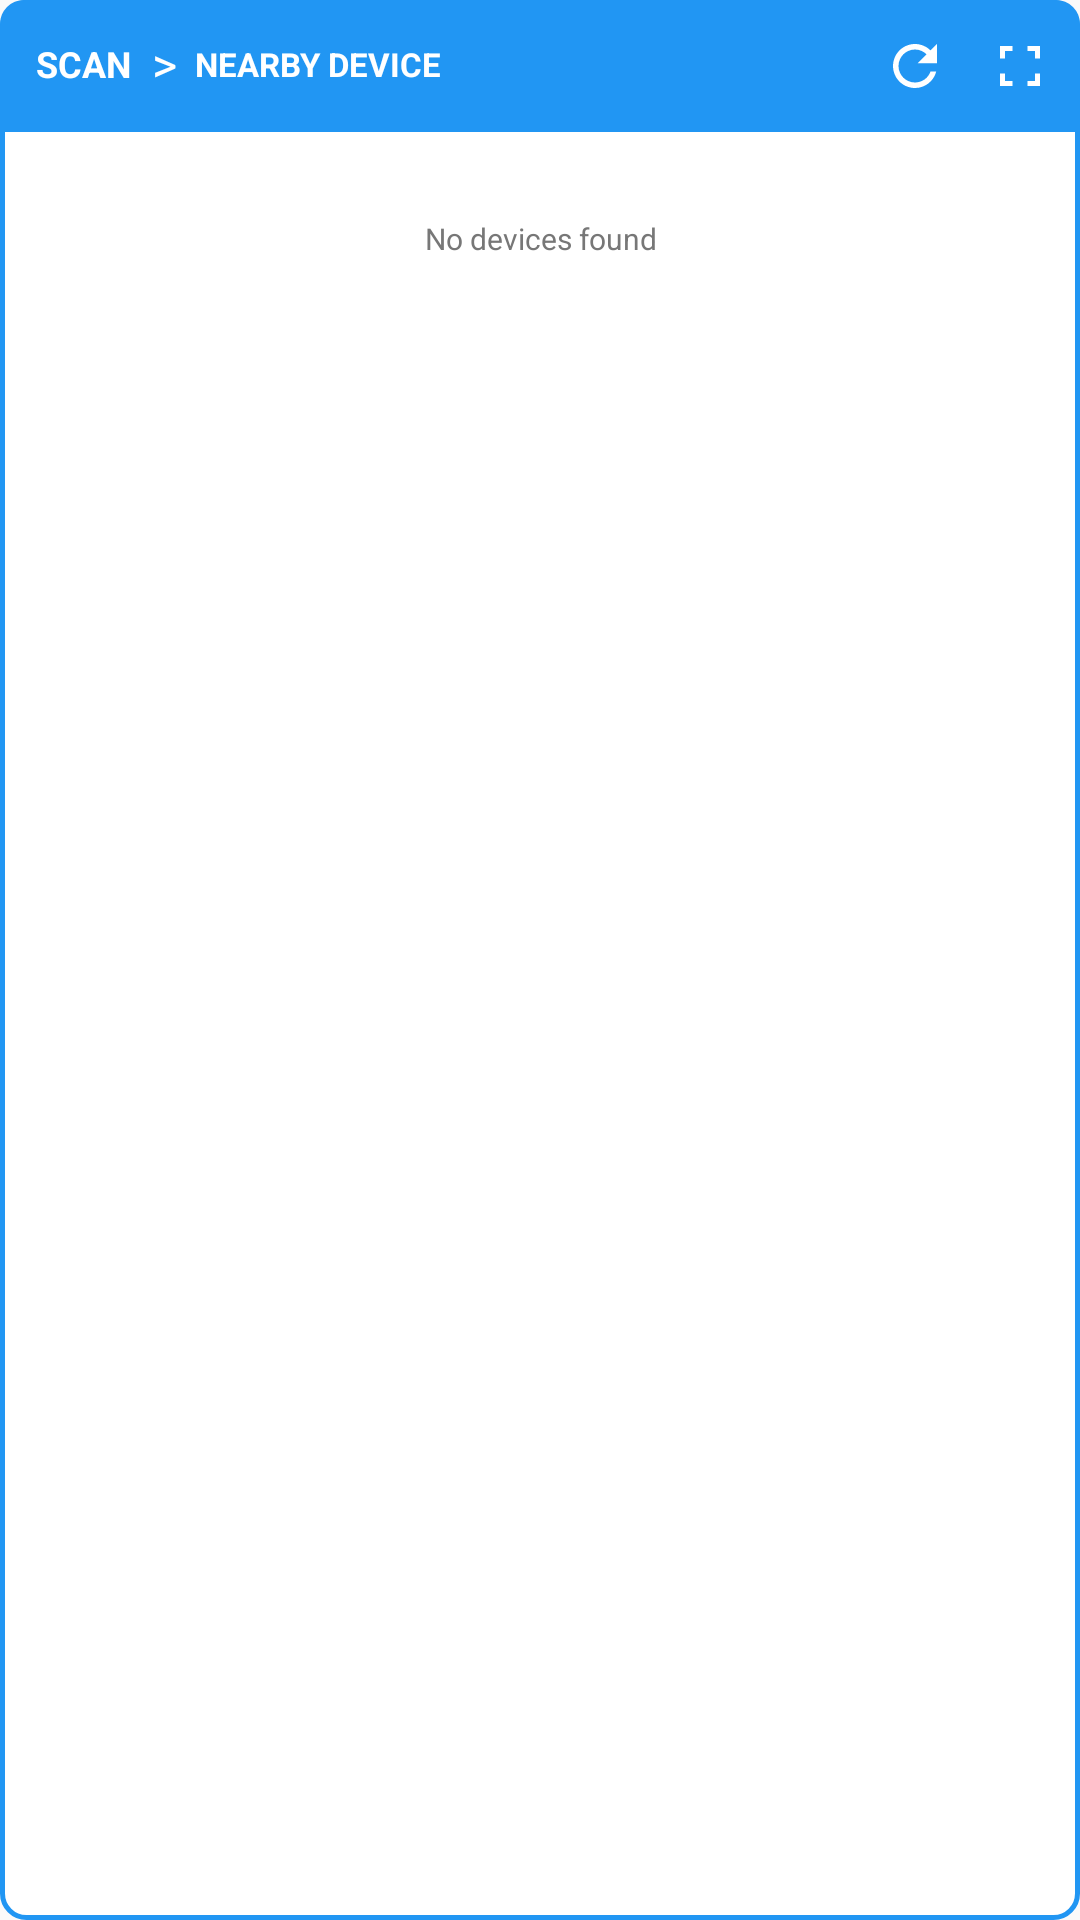

Locate icon controls on the screen. Image size 1080 x 1920, boxes as detection(x1, y1, x2, y2).
Expand: detection(1000, 46, 1040, 86)
Refresh: detection(893, 44, 937, 88)
